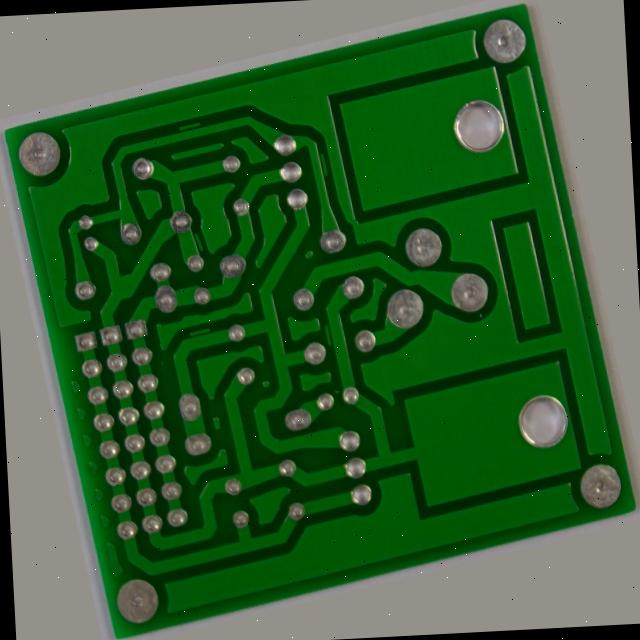spurious_copper: (190, 55, 228, 76), (166, 298, 200, 317), (319, 321, 335, 359), (189, 187, 208, 218), (346, 124, 362, 157)
